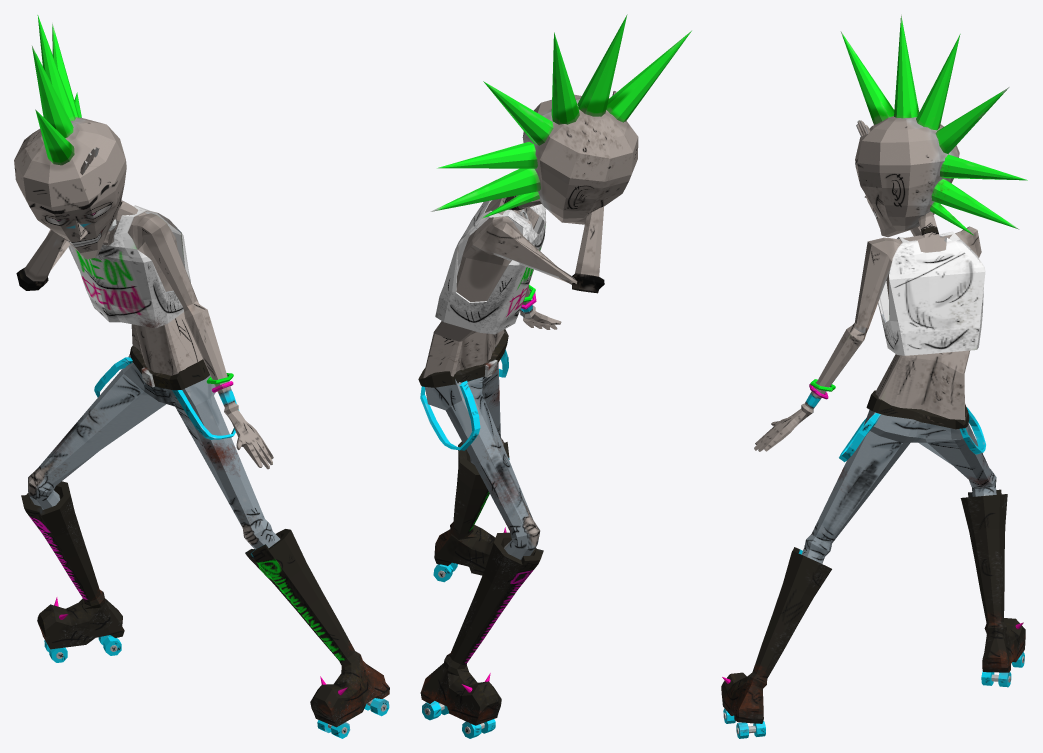
Rendered from punkAnimation_000057.obj.
3 views of the same model, side by side, from view 1: azimuth 30°, elevation 25°; view 2: azimuth 150°, elevation 25°; view 3: azimuth 270°, elevation 25° (orthographic). The views are drawn at different scales.
Parts seen in each view (by area): view 1: Cube.004_Cube.003; view 2: Cube.004_Cube.003; view 3: Cube.004_Cube.003.
Boxes of the visible parts, box(x1,y1,x2,y2) form: Cube.004_Cube.003: box(14, 15, 389, 738); Cube.004_Cube.003: box(418, 14, 691, 738); Cube.004_Cube.003: box(721, 14, 1027, 738).
Bounding box in the file's own units: 3.11 × 6.72 × 3.05.
